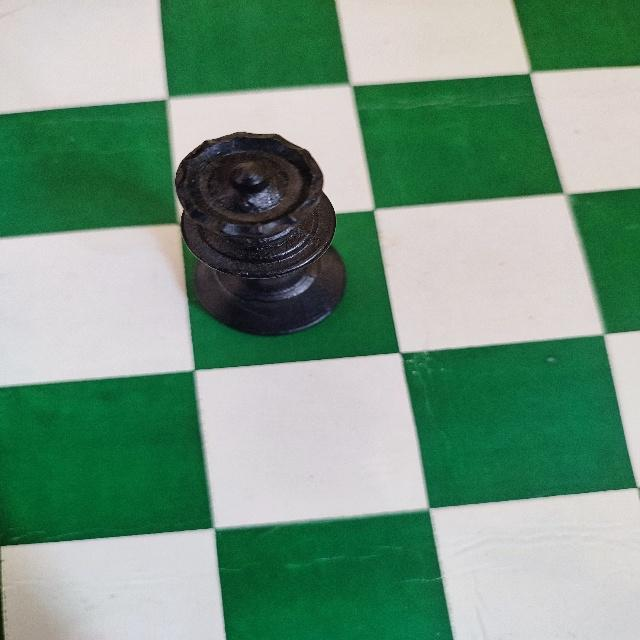Queen: (171, 127, 351, 340)
